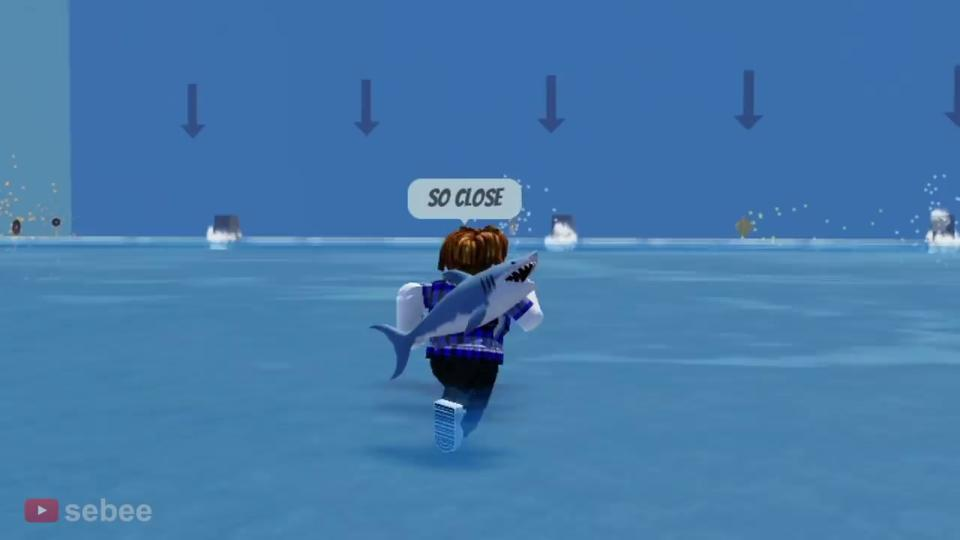Character: (395, 225, 545, 453)
